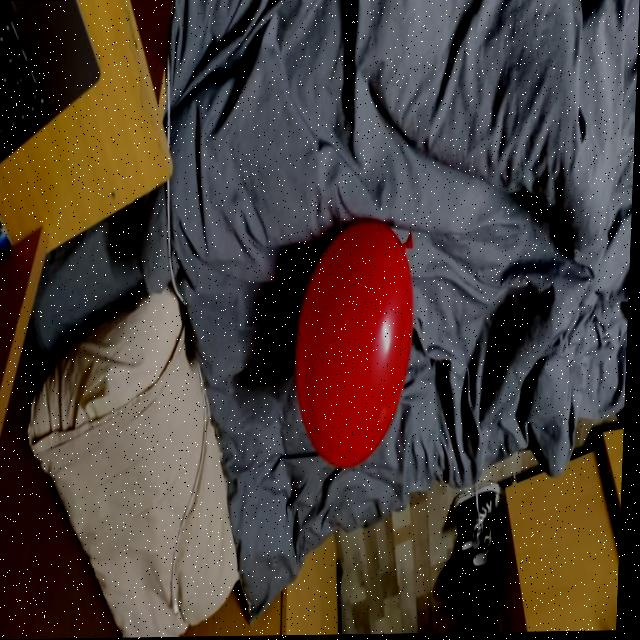balloon: (286, 206, 427, 476)
